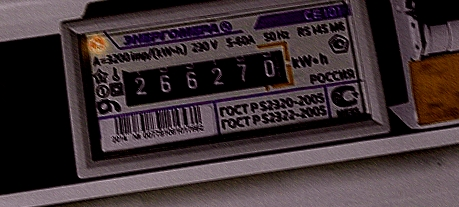0: (261, 56, 277, 78)
2: (132, 74, 149, 96), (209, 64, 225, 86)
6: (157, 71, 173, 94), (184, 68, 200, 90)
7: (235, 61, 249, 81)
screen: (111, 36, 301, 113)
